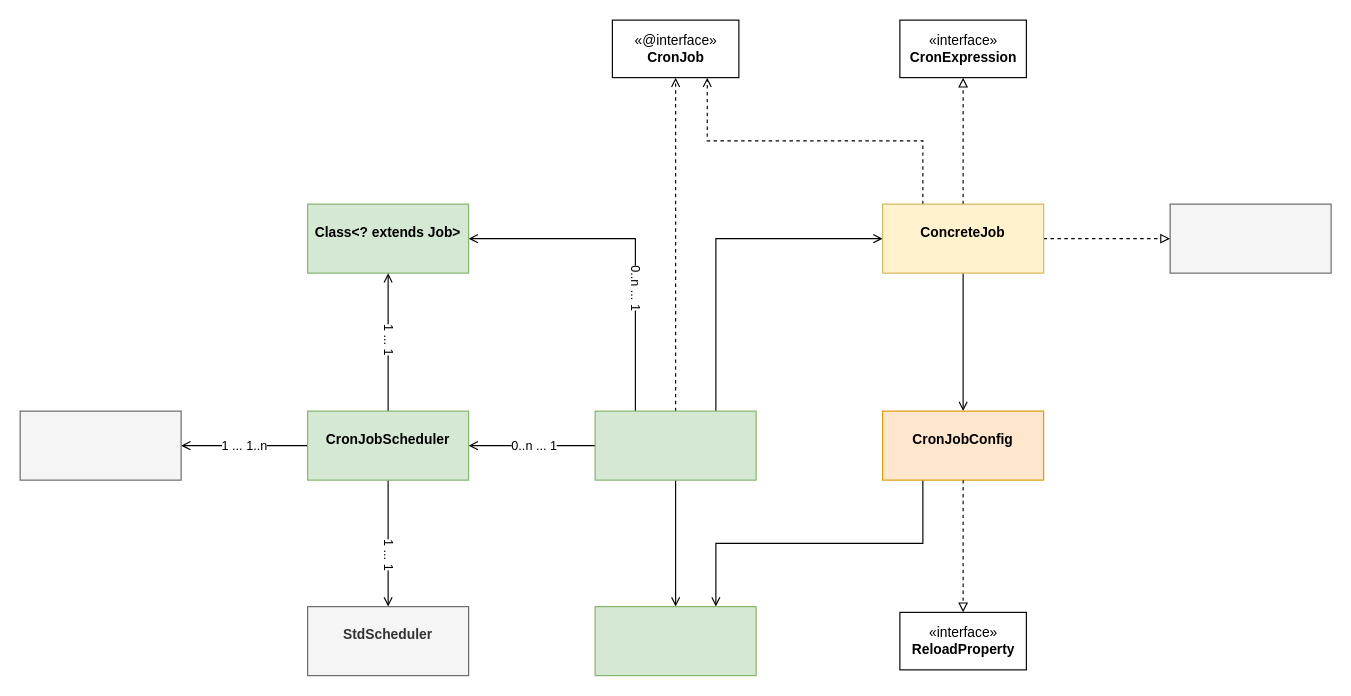
Image size: 1351x696. Some labels were removed from this diagram. Here are the shapes that lost their labels. From the top down, the centre of each, then its label:
[1250,238]: «interface» Job
[100,445]: StdSchedulerFactory
[675,445]: CronJobManager
[675,640]: CronJobContainer
